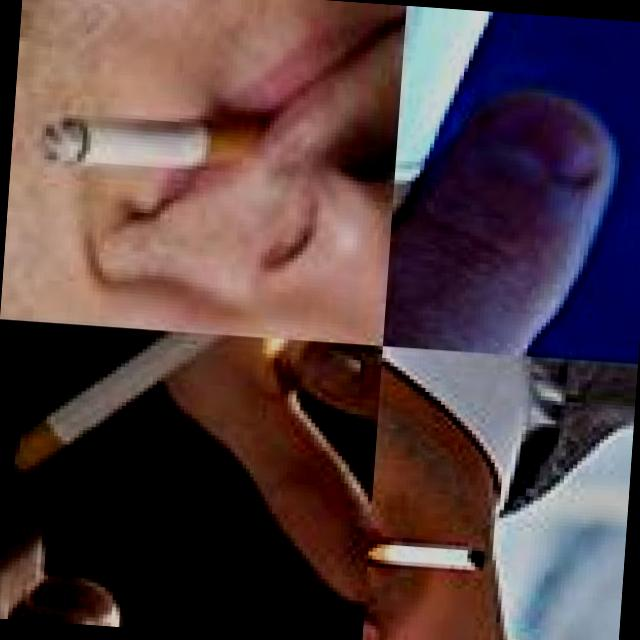cigarette: (0, 323, 283, 505), (387, 9, 534, 289), (32, 100, 272, 186), (366, 536, 488, 578)
